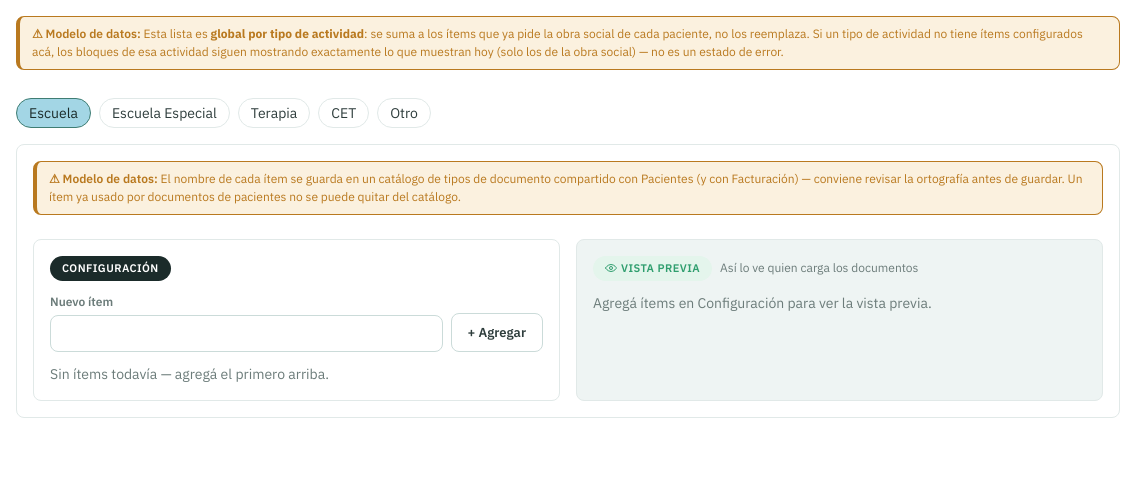
Test: RequisitosActividadPage › si falla el guardado, revierte el cambio optimista y muestra el error
Type "Constancia" into the field labelled "Nuevo ítem" at [246, 333], box [50,314,443,352]
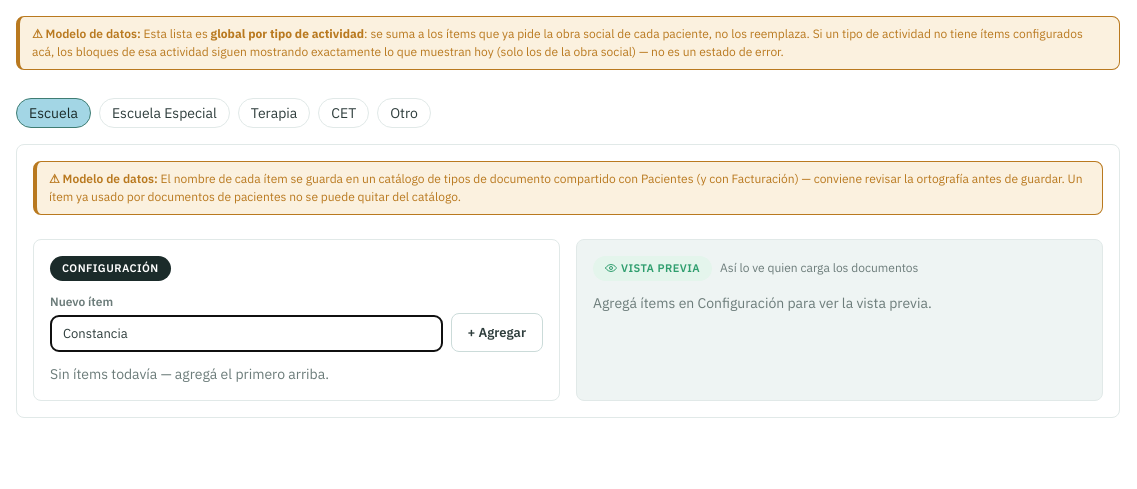
Click the button "+ Agregar" at [497, 332], box [451,312,543,352]
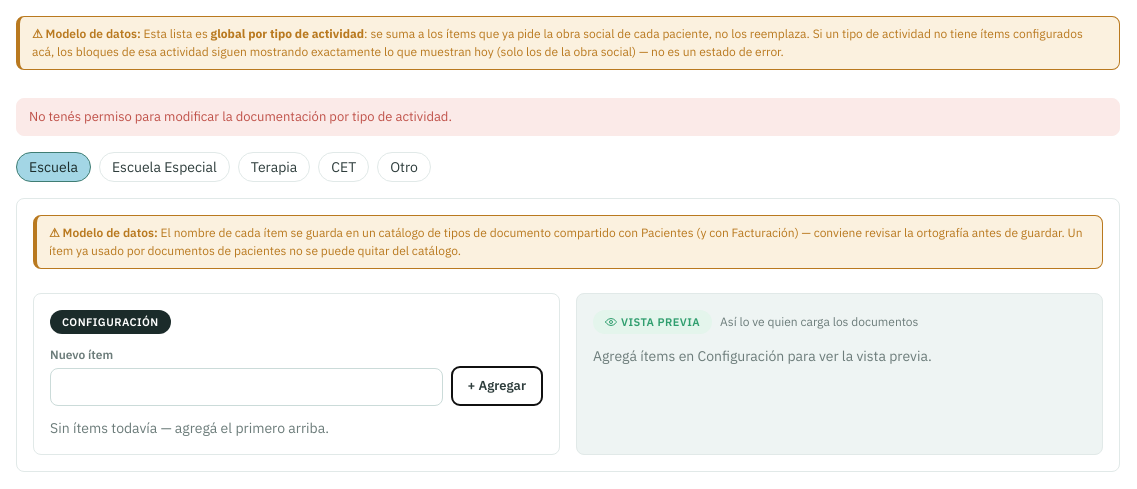
Expected: the text "Constancia" is not shown
Expected: the message shows "No tenés permiso", [29,108,452,125]
